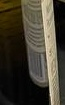1d: (26, 43, 44, 79)
